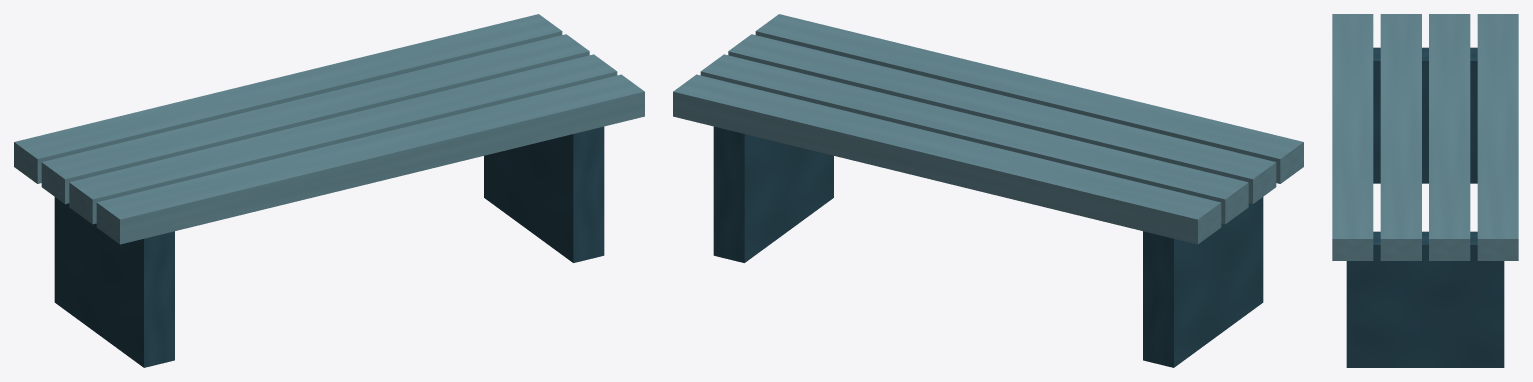
File: atlas100-abyss-util03.glb
3 renders of one model, left to right at view 1: azimuth 30°, elevation 25°; view 2: azimuth 150°, elevation 25°; view 3: azimuth 270°, elevation 25°, orthographic. The views are drawn at different scales.
Visible parts, largest first — view 1: atlas100-abyss-util03:part-005, atlas100-abyss-util03:part-003, atlas100-abyss-util03:part-002, atlas100-abyss-util03:part-004, atlas100-abyss-util03:part-000, atlas100-abyss-util03:part-001; view 2: atlas100-abyss-util03:part-002, atlas100-abyss-util03:part-004, atlas100-abyss-util03:part-003, atlas100-abyss-util03:part-005, atlas100-abyss-util03:part-000, atlas100-abyss-util03:part-001; view 3: atlas100-abyss-util03:part-001, atlas100-abyss-util03:part-002, atlas100-abyss-util03:part-003, atlas100-abyss-util03:part-004, atlas100-abyss-util03:part-005, atlas100-abyss-util03:part-000.
Boxes of the visible parts, x1,y1,x2,y2 form: atlas100-abyss-util03:part-005: [96, 74, 644, 244]; atlas100-abyss-util03:part-003: [41, 34, 589, 204]; atlas100-abyss-util03:part-002: [14, 14, 562, 183]; atlas100-abyss-util03:part-004: [69, 54, 617, 224]; atlas100-abyss-util03:part-000: [54, 197, 174, 367]; atlas100-abyss-util03:part-001: [484, 126, 604, 262]; atlas100-abyss-util03:part-002: [673, 74, 1221, 244]; atlas100-abyss-util03:part-004: [728, 34, 1276, 204]; atlas100-abyss-util03:part-003: [700, 54, 1248, 224]; atlas100-abyss-util03:part-005: [755, 14, 1303, 183]; atlas100-abyss-util03:part-000: [1143, 197, 1263, 367]; atlas100-abyss-util03:part-001: [713, 126, 833, 262]; atlas100-abyss-util03:part-001: [1346, 231, 1504, 367]; atlas100-abyss-util03:part-002: [1477, 14, 1518, 260]; atlas100-abyss-util03:part-003: [1429, 14, 1470, 260]; atlas100-abyss-util03:part-004: [1380, 14, 1421, 260]; atlas100-abyss-util03:part-005: [1332, 14, 1373, 260]; atlas100-abyss-util03:part-000: [1373, 47, 1477, 183].
Bounding box in the file's own units: 2.45 × 0.7247 × 0.8586.
Materials: 2 (2 with a texture image).
